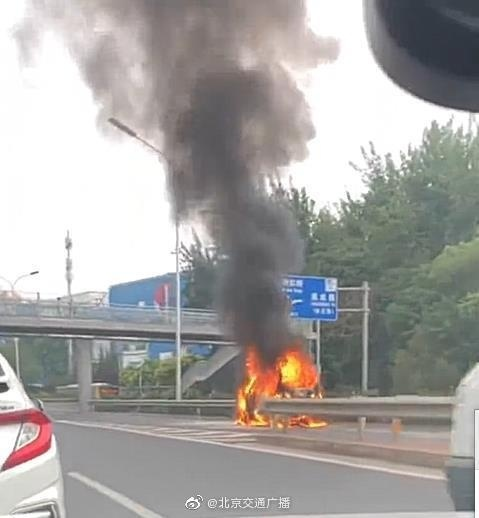fire: (232, 343, 328, 429)
